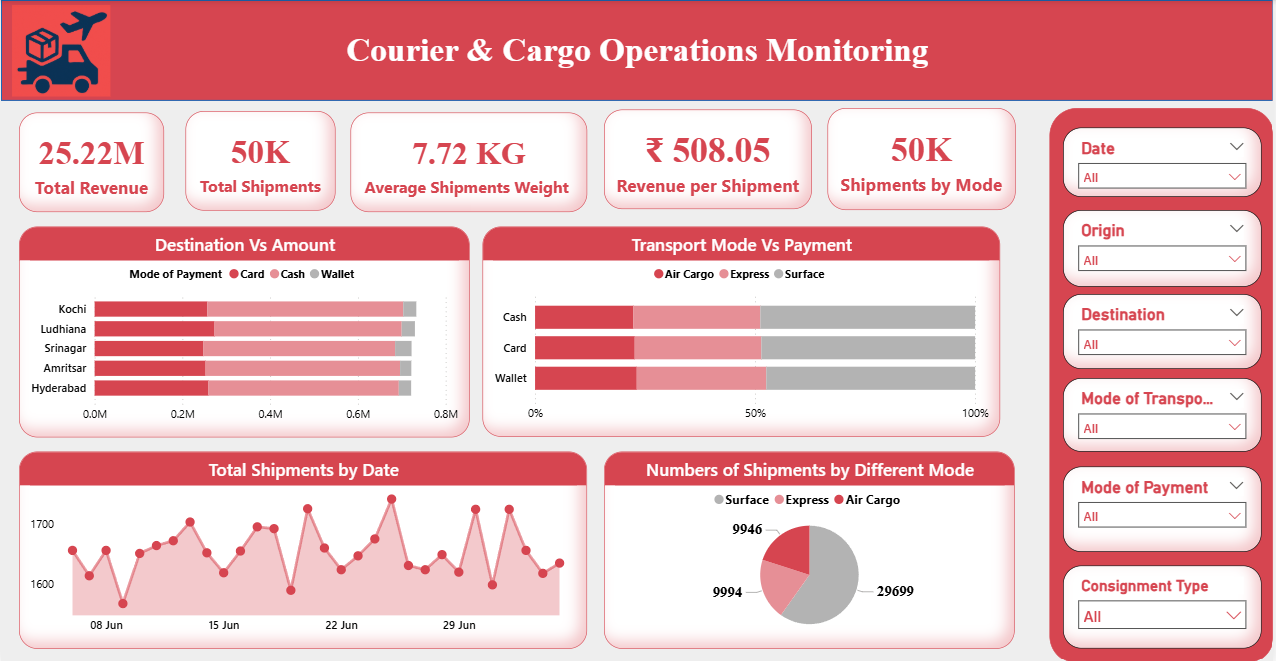

The page's visual inventory and layout, read from the dashboard file:
{"tool":"powerbi","page":{"name":"Page 1","canvas":[1380,720],"ordinal":0},"visuals":[{"type":"shape","box":[0,0,1379.8,109.3],"z":0},{"type":"image","box":[0,0,130.6,109.4],"z":1000},{"type":"card","fields":{"Values":["Dataset.Sum of Amount"]},"box":[19.9,122.6,157.4,107.7],"z":2000},{"type":"card","fields":{"Values":["Dataset_Generator_for_DTDC.Total Shipments"]},"box":[200.4,120.9,162.3,107.7],"z":3000},{"type":"card","fields":{"Values":["Dataset_Generator_for_DTDC.Average Shipments Weight"]},"box":[379.3,122.6,256.8,107.7],"z":4000},{"type":"card","fields":{"Values":["Dataset_Generator_for_DTDC.Revenue per Shipment"]},"box":[654.3,119.3,225.3,107.7],"z":5000},{"type":"card","fields":{"Values":["Dataset_Generator_for_DTDC.Shipments by Mode"]},"box":[896.2,117.6,203.7,111],"z":6000},{"type":"barChart","title":"Destination  Vs Amount ","fields":{"Y":["Dataset.Sum of Amount"],"Category":["Dataset.Destination"],"Series":["Dataset.Mode of Payment"]},"box":[19.9,245.2,488.7,228.6],"z":7000},{"type":"lineChart","fields":{"Category":["Dataset.Date"],"Y":["Dataset.Total Shipments"]},"box":[19.9,490.3,616.2,213.7],"z":8000},{"type":"pieChart","title":"Numbers of Shipments by Different Mode","fields":{"Category":["Dataset.Mode"],"Y":["CountNonNull(Dataset.Mode)"]},"box":[654.3,490.3,445.6,213.7],"z":9000},{"type":"hundredPercentStackedBarChart","title":"Transport Mode Vs Payment","fields":{"Series":["Dataset.Mode"],"Category":["Dataset.Mode of Payment"],"Y":["Sum(Dataset.Total Amount)"]},"box":[522.1,245.6,561.2,227.7],"z":10000},{"type":"shape","box":[1136.3,117.6,243.5,603],"z":11000},{"type":"slicer","fields":{"Values":["Dataset.Date"]},"box":[1150.9,138.8,215.5,75.1],"z":12000},{"type":"slicer","fields":{"Values":["Dataset.Origin"]},"box":[1150.9,226.9,215.5,83.3],"z":13000},{"type":"slicer","fields":{"Values":["Dataset.Destination"]},"box":[1150.9,318.3,215.5,81.6],"z":14000},{"type":"slicer","fields":{"Values":["Dataset.Mode"]},"box":[1150.9,409.8,215.5,80],"z":15000},{"type":"slicer","fields":{"Values":["Dataset.Mode of Payment"]},"box":[1151.3,505.2,215.3,92.8],"z":16000},{"type":"slicer","fields":{"Values":["Dataset.Nature of Consignment"]},"box":[1150.9,613.8,215.5,89.8],"z":17000}]}

Visuals, with their boxes in screenshot pixels (x1, y1, x2, y2), scaled from the page's 1380x720 canvas onto the 1276x661 screenshot:
shape: (x1=0, y1=0, x2=1275, y2=100)
image: (x1=0, y1=0, x2=121, y2=100)
card - Dataset.Sum of Amount: (x1=18, y1=113, x2=164, y2=211)
card - Dataset_Generator_for_DTDC.Total Shipments: (x1=185, y1=111, x2=335, y2=210)
card - Dataset_Generator_for_DTDC.Average Shipments Weight: (x1=351, y1=113, x2=588, y2=211)
card - Dataset_Generator_for_DTDC.Revenue per Shipment: (x1=605, y1=110, x2=813, y2=208)
card - Dataset_Generator_for_DTDC.Shipments by Mode: (x1=829, y1=108, x2=1017, y2=210)
"Destination  Vs Amount " barChart: (x1=18, y1=225, x2=470, y2=435)
lineChart - Dataset.Date x Dataset.Total Shipments: (x1=18, y1=450, x2=588, y2=646)
"Numbers of Shipments by Different Mode" pieChart: (x1=605, y1=450, x2=1017, y2=646)
"Transport Mode Vs Payment" hundredPercentStackedBarChart: (x1=483, y1=225, x2=1002, y2=435)
shape: (x1=1051, y1=108, x2=1275, y2=660)
slicer - Dataset.Date: (x1=1064, y1=127, x2=1263, y2=196)
slicer - Dataset.Origin: (x1=1064, y1=208, x2=1263, y2=285)
slicer - Dataset.Destination: (x1=1064, y1=292, x2=1263, y2=367)
slicer - Dataset.Mode: (x1=1064, y1=376, x2=1263, y2=450)
slicer - Dataset.Mode of Payment: (x1=1065, y1=464, x2=1264, y2=549)
slicer - Dataset.Nature of Consignment: (x1=1064, y1=564, x2=1263, y2=646)
